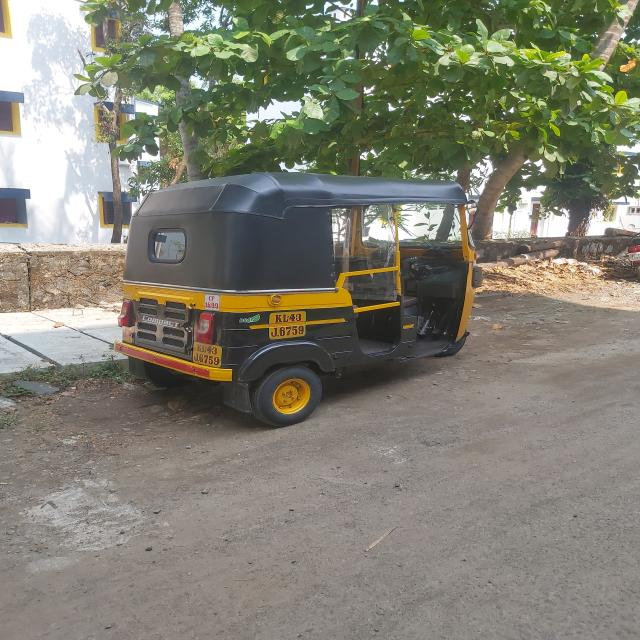Autorickshaw: (105, 154, 524, 440)
